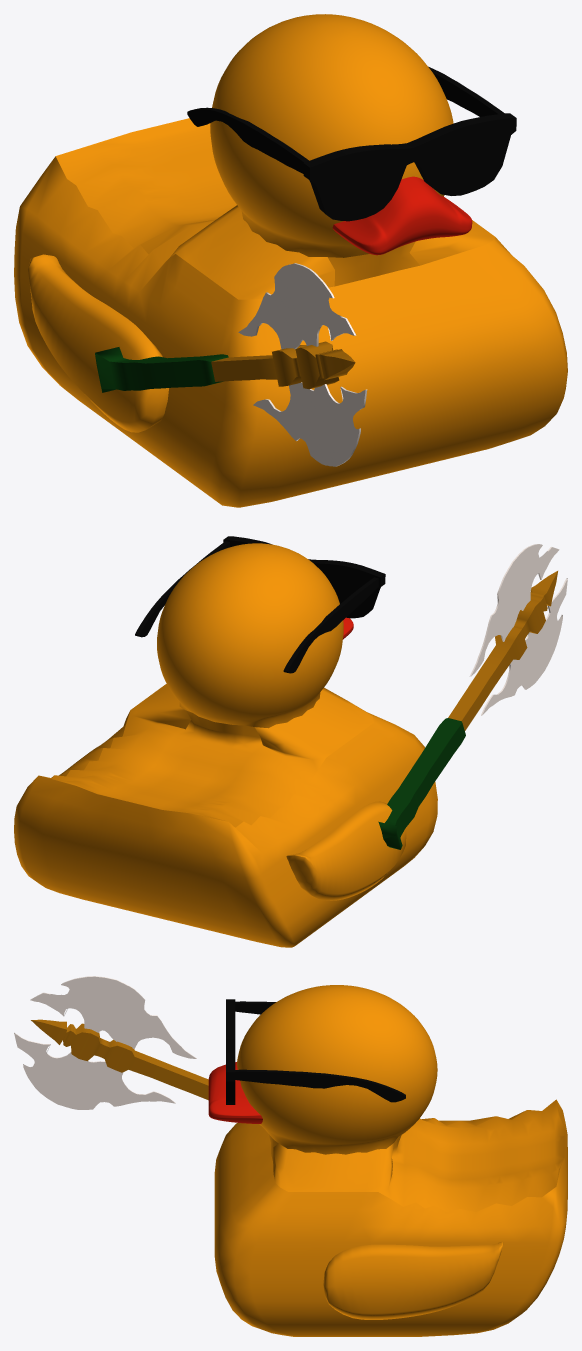
The model's file is DucksWORSHIPPER3.obj.
The picture shows the model from 3 angles, top to bottom: view 1: azimuth 30°, elevation 25°; view 2: azimuth 150°, elevation 25°; view 3: azimuth 270°, elevation 25°; orthographic projection. The views are drawn at different scales.
Parts seen in each view (by area): view 1: pCube10, DucksBATTLEAXE:polySurface1, pCube14, pCube7, polySurface2 pCube3; view 2: pCube10, DucksBATTLEAXE:polySurface1, pCube7, pCube14; view 3: pCube10, DucksBATTLEAXE:polySurface1, pCube6, pCube14, polySurface2 pCube3.
Part boxes in pixels (x1=…): pCube10: x1=14, y1=14, x2=567, y2=507; DucksBATTLEAXE:polySurface1: x1=95, y1=263, x2=367, y2=466; pCube14: x1=187, y1=66, x2=516, y2=221; pCube7: x1=27, y1=254, x2=168, y2=432; polySurface2 pCube3: x1=332, y1=176, x2=472, y2=255; pCube10: x1=14, y1=543, x2=437, y2=947; DucksBATTLEAXE:polySurface1: x1=378, y1=544, x2=567, y2=849; pCube7: x1=286, y1=801, x2=406, y2=900; pCube14: x1=135, y1=536, x2=385, y2=673; pCube10: x1=214, y1=985, x2=567, y2=1336; DucksBATTLEAXE:polySurface1: x1=14, y1=976, x2=208, y2=1109; pCube6: x1=323, y1=1241, x2=503, y2=1319; pCube14: x1=226, y1=999, x2=405, y2=1104; polySurface2 pCube3: x1=208, y1=1062, x2=262, y2=1123.
Size of the model in its own units: 2.33 by 2.31 by 3.82.
